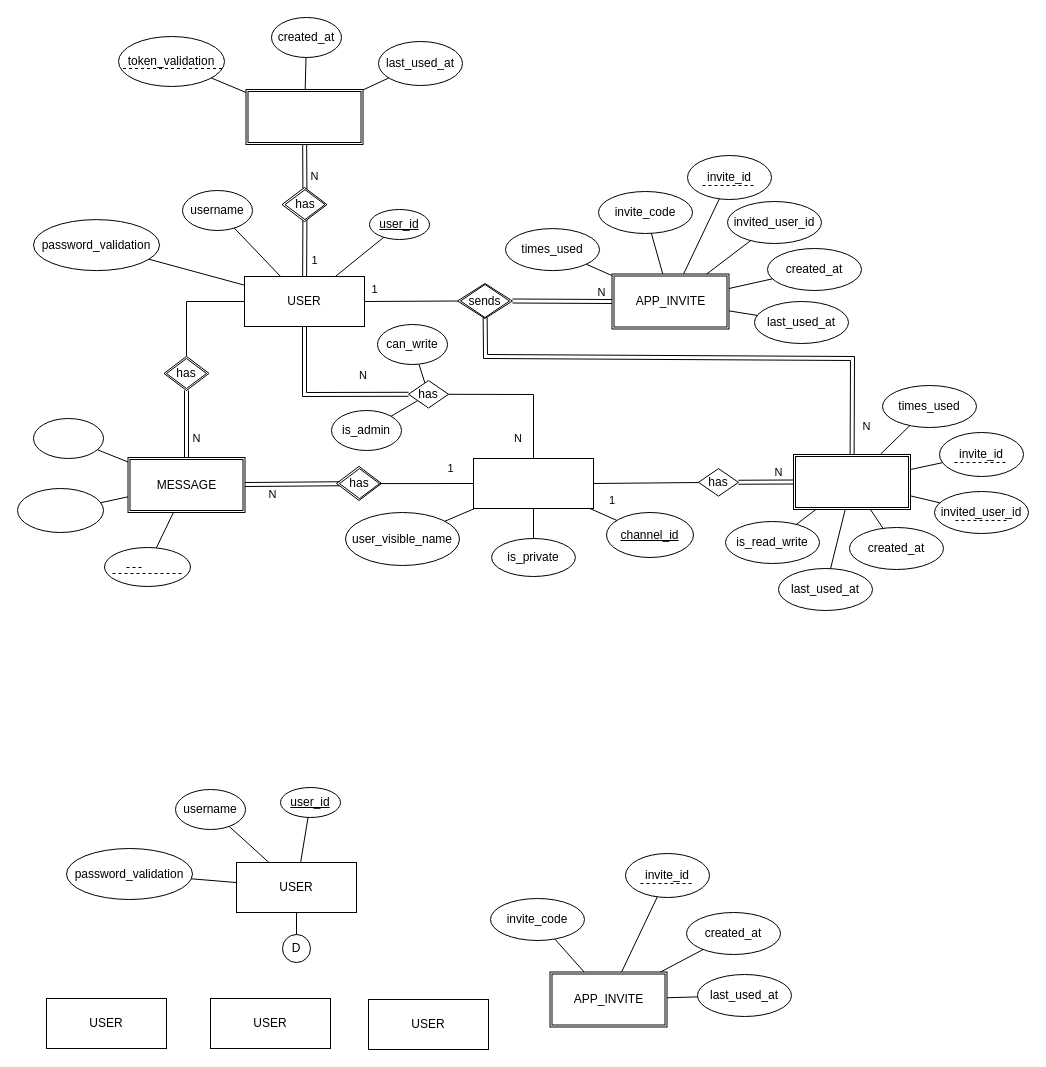
The diagram is 1046 pixels wide and 1067 high, and some of its shapes have lost their labels. Each missing label, with the centre of its shape:
"CHANNEL" belongs at (x=533, y=483).
"CHANNEL_INVITE" belongs at (x=851, y=482).
"message_id" belongs at (x=147, y=566).
"text" belongs at (x=68, y=438).
"timestamp" belongs at (x=60, y=510).
"TOKEN" belongs at (x=304, y=116).
